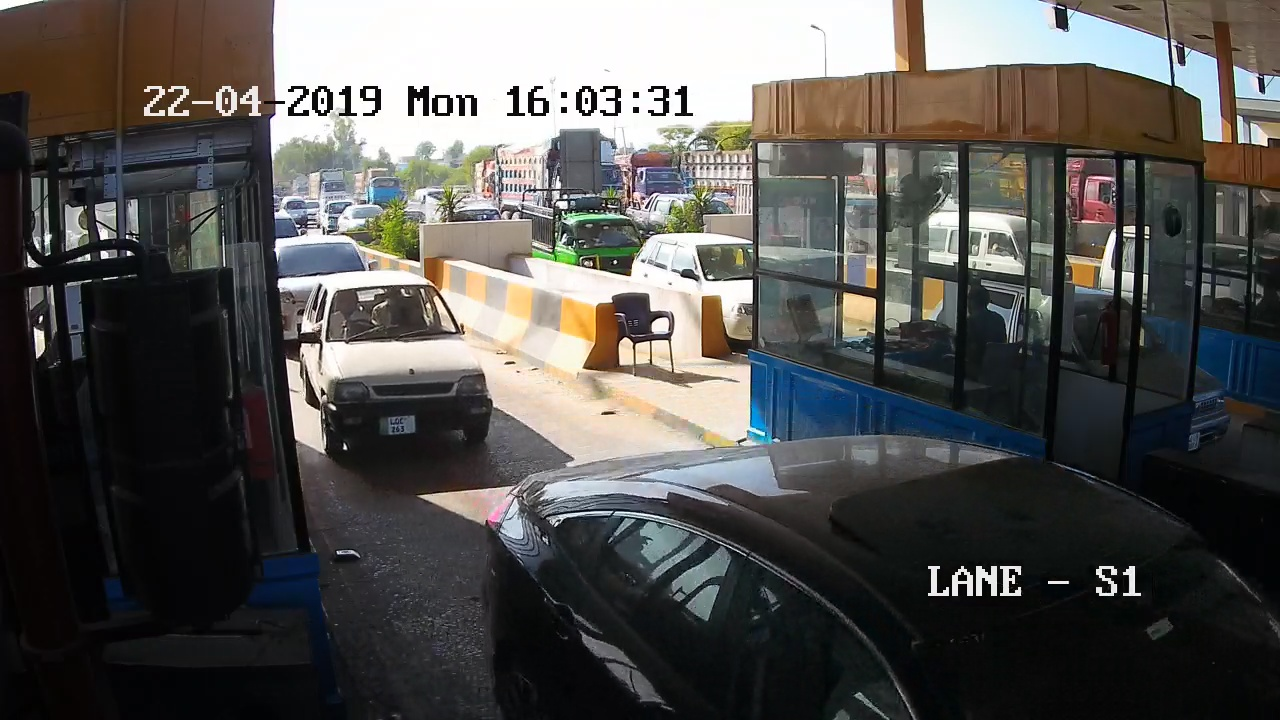Number Plate (Car): (379, 416, 415, 433)
